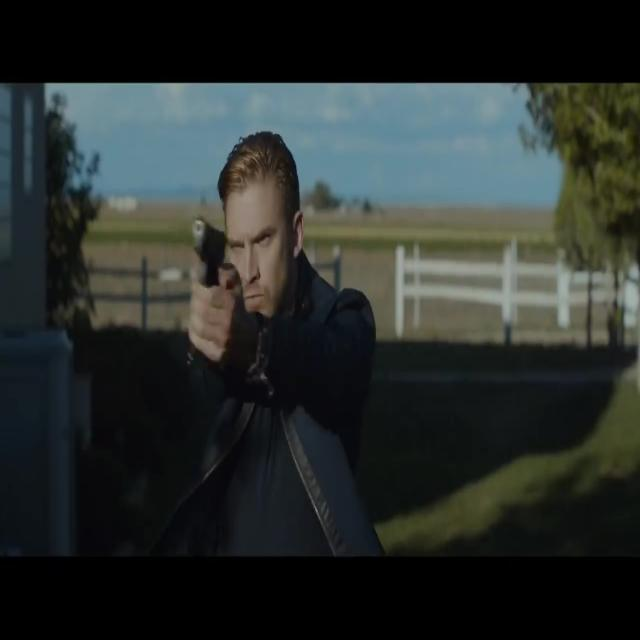Weapon: (178, 204, 236, 288)
